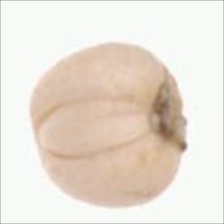L5: (33, 94, 149, 160), (148, 62, 191, 156)
L6: (28, 42, 191, 208)
